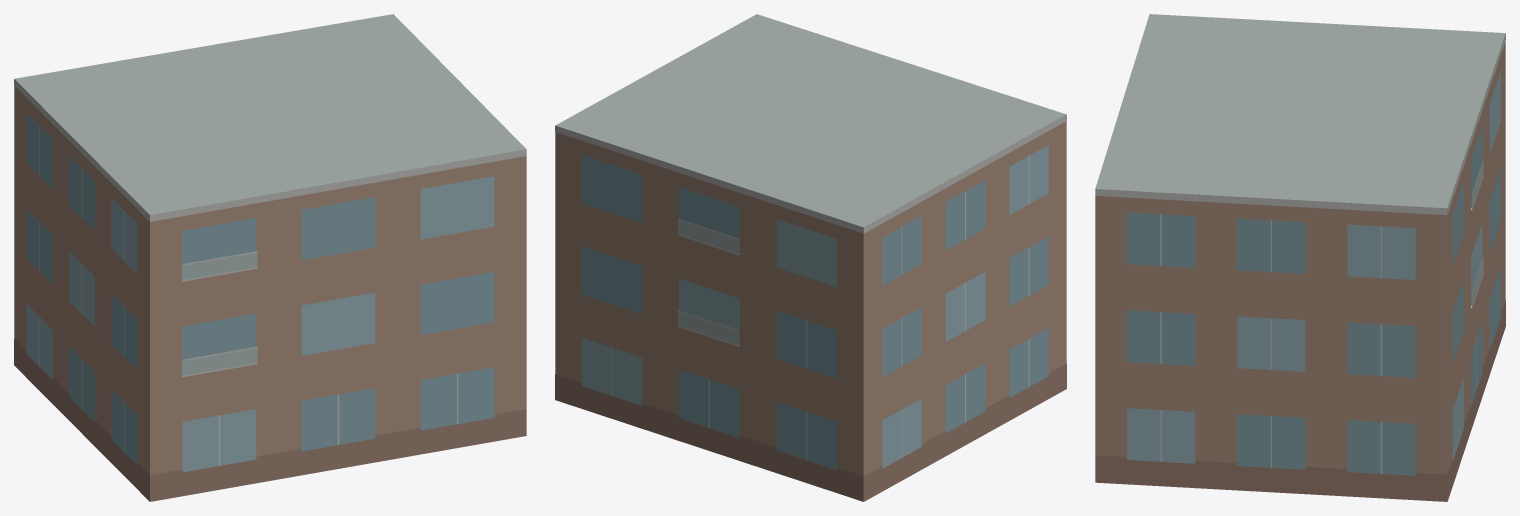
The model's file is survey-upis-32585343.glb.
The picture shows the model from 3 angles, left to right: view 1: azimuth 30°, elevation 25°; view 2: azimuth 150°, elevation 25°; view 3: azimuth 270°, elevation 25°; orthographic projection. The views are drawn at different scales.
Visible parts, largest first — view 1: survey-upis-32585343.tmp; view 2: survey-upis-32585343.tmp; view 3: survey-upis-32585343.tmp.
Part boxes in pixels (box(x1,y1,x2,y2)): survey-upis-32585343.tmp: box(14, 14, 526, 501); survey-upis-32585343.tmp: box(555, 14, 1066, 501); survey-upis-32585343.tmp: box(1095, 14, 1505, 501).
Size of the model in its own units: 14.85 by 10.45 by 13.26.
